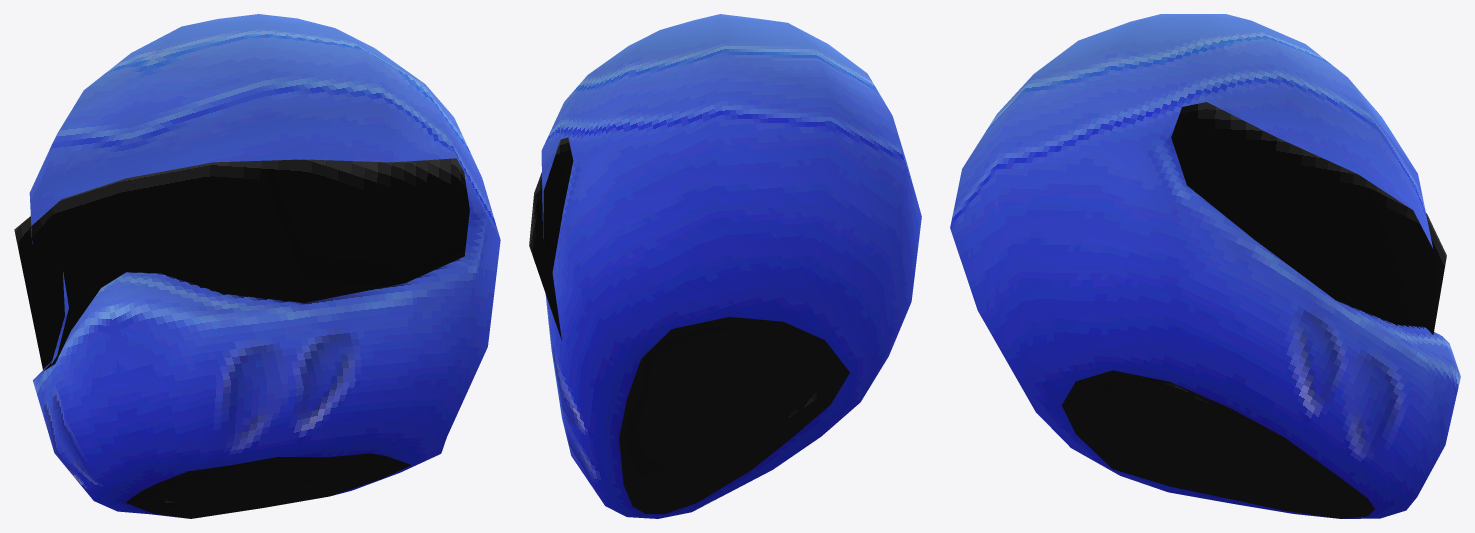
Rendered from ps2_save-icons_buzzjunioraceracers.glb.
3 renders of one model, left to right at view 1: azimuth 30°, elevation 25°; view 2: azimuth 150°, elevation 25°; view 3: azimuth 270°, elevation 25°, orthographic. The views are drawn at different scales.
Visible parts, largest first — view 1: icon1.ico; view 2: icon1.ico; view 3: icon1.ico.
Boxes of the visible parts, x1,y1,x2,y2 form: icon1.ico: (14,14,500,518); icon1.ico: (529,14,921,518); icon1.ico: (950,14,1460,518).
Bounding box in the file's own units: 2.81 × 3.29 × 3.18.
Materials: 1 (1 with a texture image).
